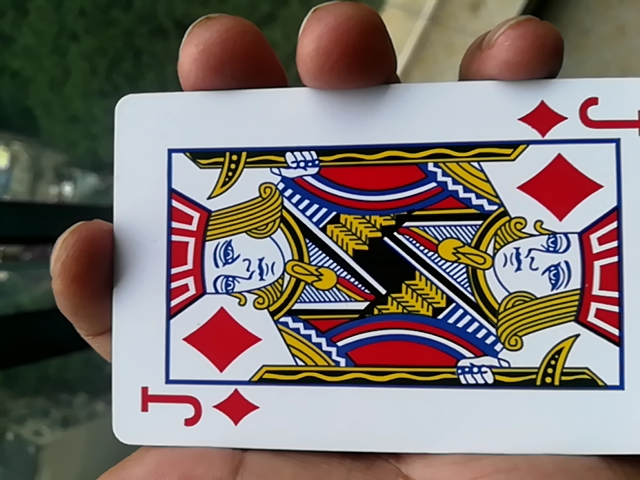fk j: (99, 101, 636, 466)
